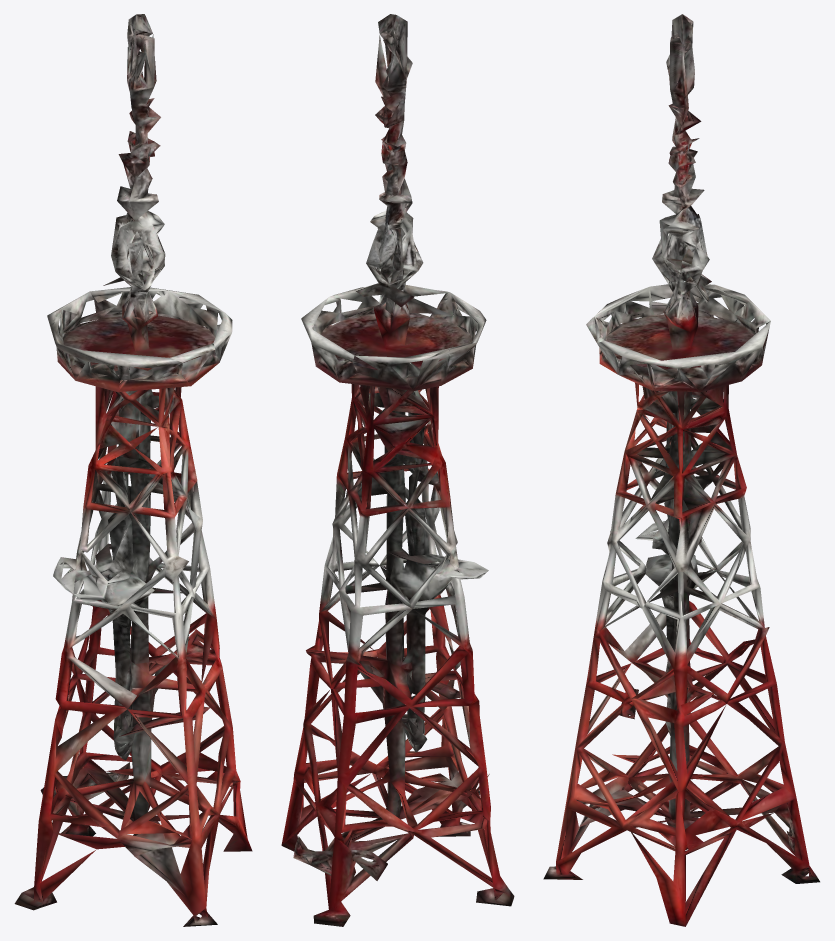
The model's file is qr_radiotower.glb.
The picture shows the model from 3 angles, left to right: view 1: azimuth 30°, elevation 25°; view 2: azimuth 150°, elevation 25°; view 3: azimuth 270°, elevation 25°; orthographic projection.
Visible parts, largest first — view 1: tripo_node_b718d72e-87ef-4073-b67b-8d9b5c217697; view 2: tripo_node_b718d72e-87ef-4073-b67b-8d9b5c217697; view 3: tripo_node_b718d72e-87ef-4073-b67b-8d9b5c217697.
Part boxes in pixels (x1,y1,x2,y2): tripo_node_b718d72e-87ef-4073-b67b-8d9b5c217697: (14,14,252,926); tripo_node_b718d72e-87ef-4073-b67b-8d9b5c217697: (281,14,514,926); tripo_node_b718d72e-87ef-4073-b67b-8d9b5c217697: (543,14,819,926).
Bounding box in the file's own units: 0.2813 × 1 × 0.2913.
1 material, 1 textured.
